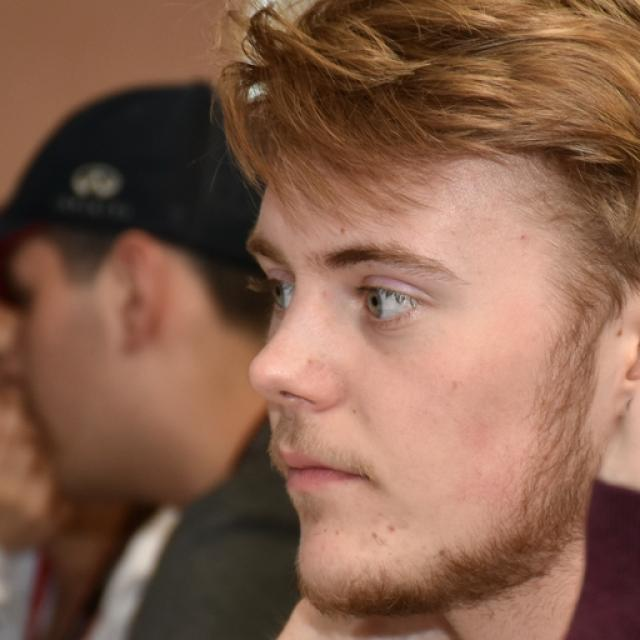neutral: (242, 109, 576, 609)
